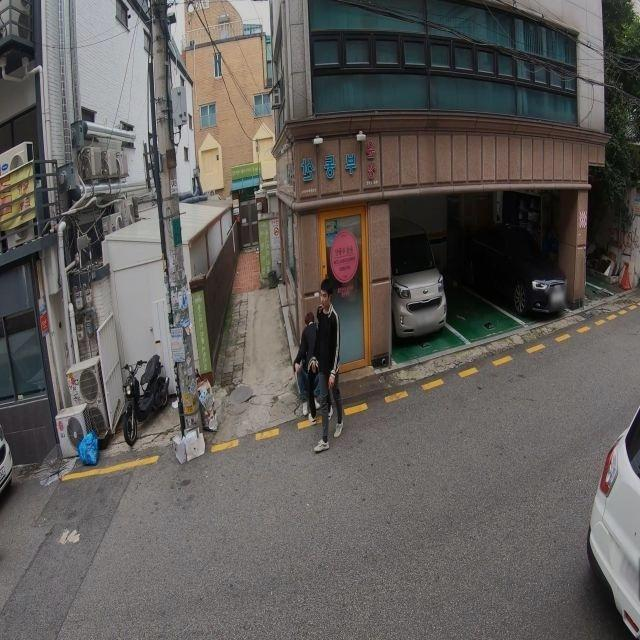fight: (294, 282, 323, 421)
non-fight: (312, 279, 344, 453)
